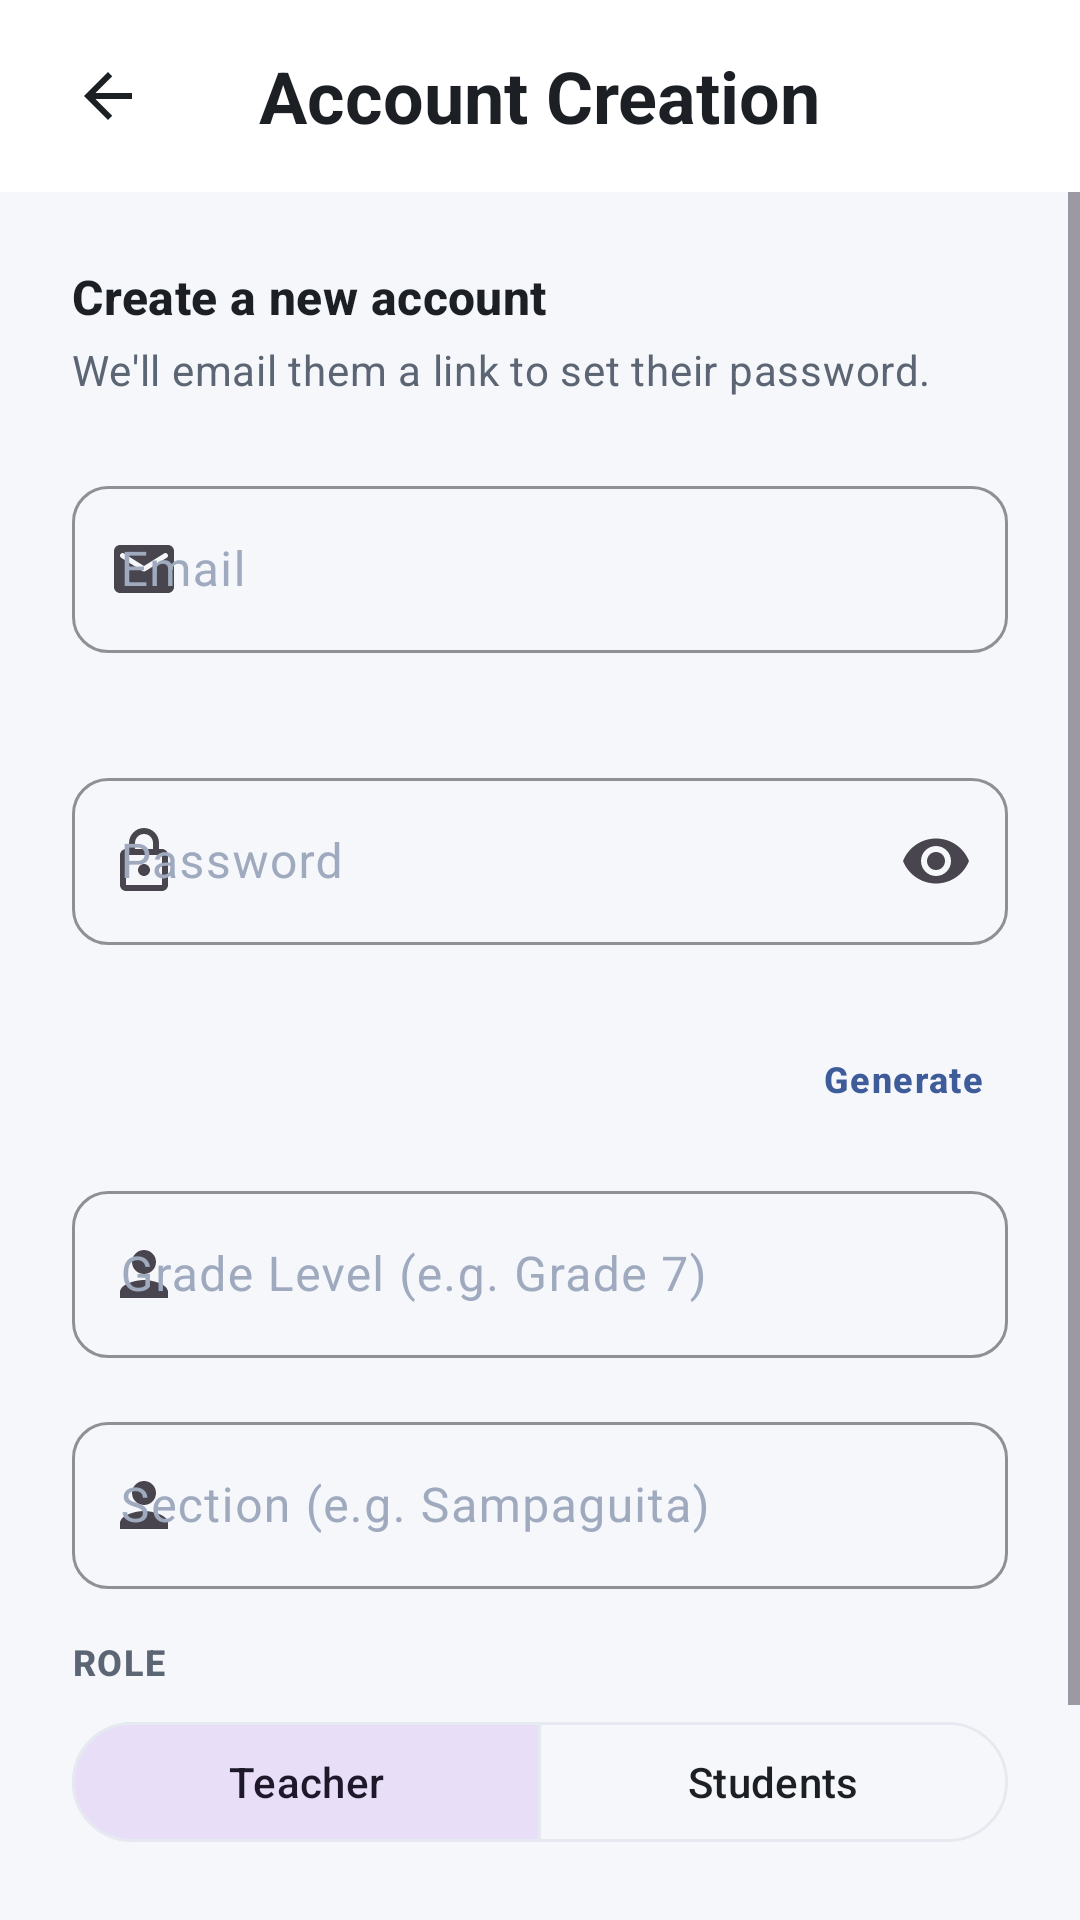

Named icons in this screenshot (1080×1920) and their bounding boxes, {"x1": x1, "y1": y1, "x2": x2, "y2": y2}:
Back: {"x1": 84, "y1": 72, "x2": 132, "y2": 120}
